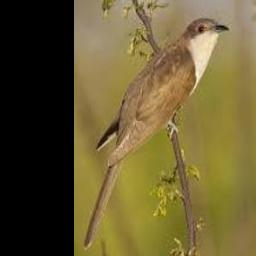Cuckoo: (84, 17, 230, 250)
